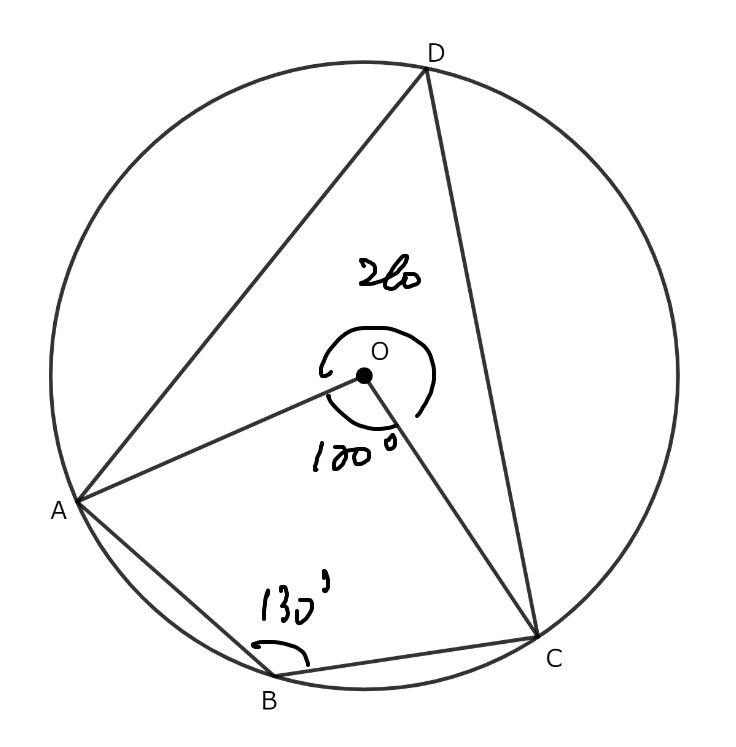Angle_Scurve: (314, 389, 404, 434), (246, 633, 315, 670)
